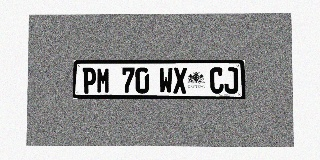0: (135, 67, 149, 93)
7: (121, 67, 135, 93)
C: (210, 67, 224, 94)
J: (224, 67, 238, 94)
M: (96, 67, 110, 93)
P: (82, 67, 96, 93)
W: (159, 67, 173, 93)
X: (173, 67, 187, 93)
